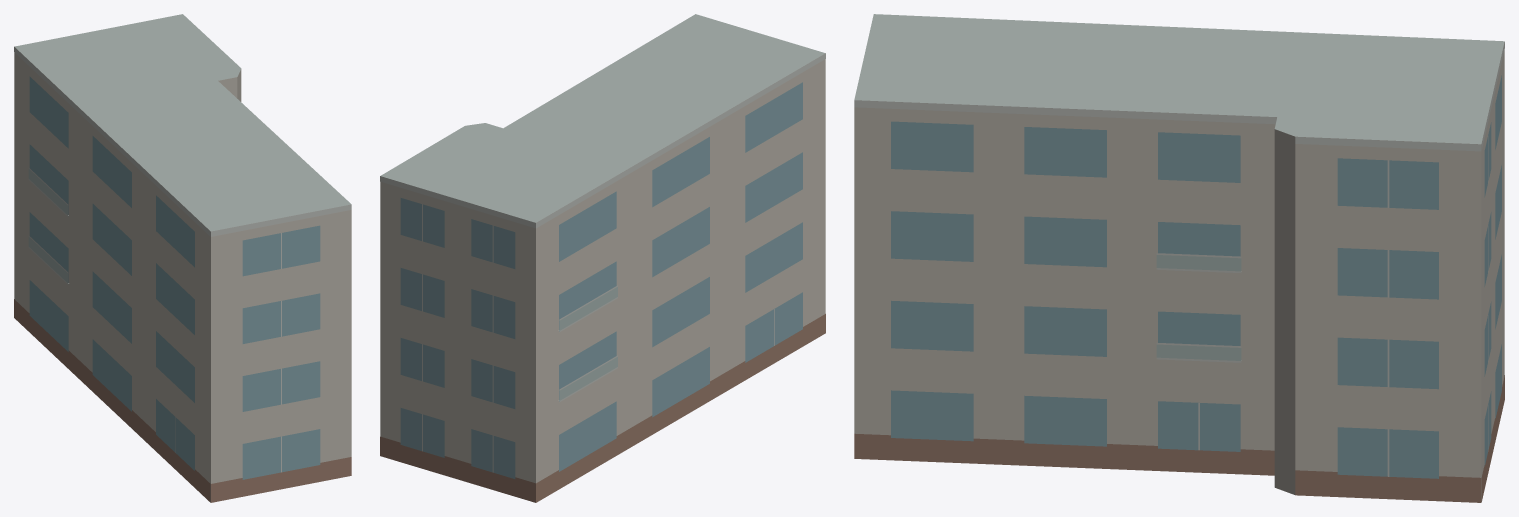
File: survey-upis-32923801.glb
3 renders of one model, left to right at view 1: azimuth 30°, elevation 25°; view 2: azimuth 150°, elevation 25°; view 3: azimuth 270°, elevation 25°, orthographic. The views are drawn at different scales.
Parts seen in each view (by area): view 1: survey-upis-32923801.tmp; view 2: survey-upis-32923801.tmp; view 3: survey-upis-32923801.tmp.
Boxes of the visible parts, bbox=[...] form: survey-upis-32923801.tmp: bbox=[14, 14, 351, 502]; survey-upis-32923801.tmp: bbox=[380, 14, 825, 502]; survey-upis-32923801.tmp: bbox=[854, 14, 1504, 502].
Bounding box in the file's own units: 9.51 × 12.2 × 20.07.
